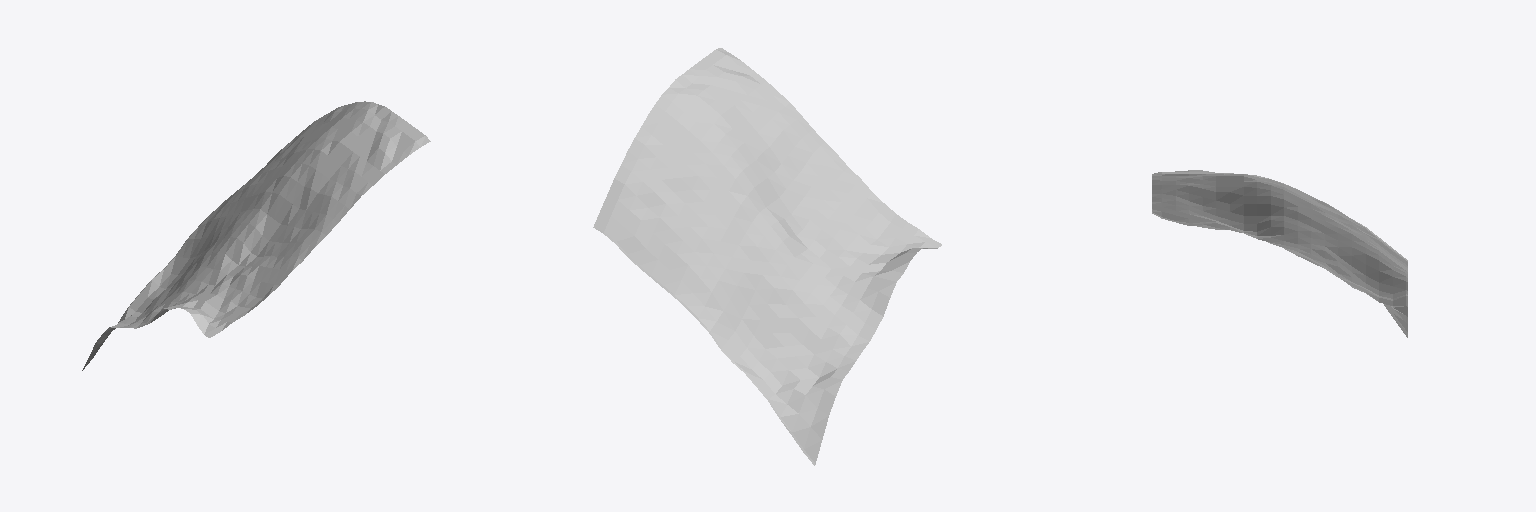
Rendered from terrain_27_20.obj.
3 views of the same model, side by side, from view 1: azimuth 30°, elevation 25°; view 2: azimuth 150°, elevation 25°; view 3: azimuth 270°, elevation 25° (orthographic).
Parts seen in each view (by area): view 1: terrain_27_20_Plane.005; view 2: terrain_27_20_Plane.005; view 3: terrain_27_20_Plane.005.
Part boxes in pixels (x1,y1,x2,y2): terrain_27_20_Plane.005: (82, 101, 430, 370); terrain_27_20_Plane.005: (593, 48, 941, 465); terrain_27_20_Plane.005: (1152, 170, 1407, 337).
Bounding box in the file's own units: 32 × 37.66 × 32.